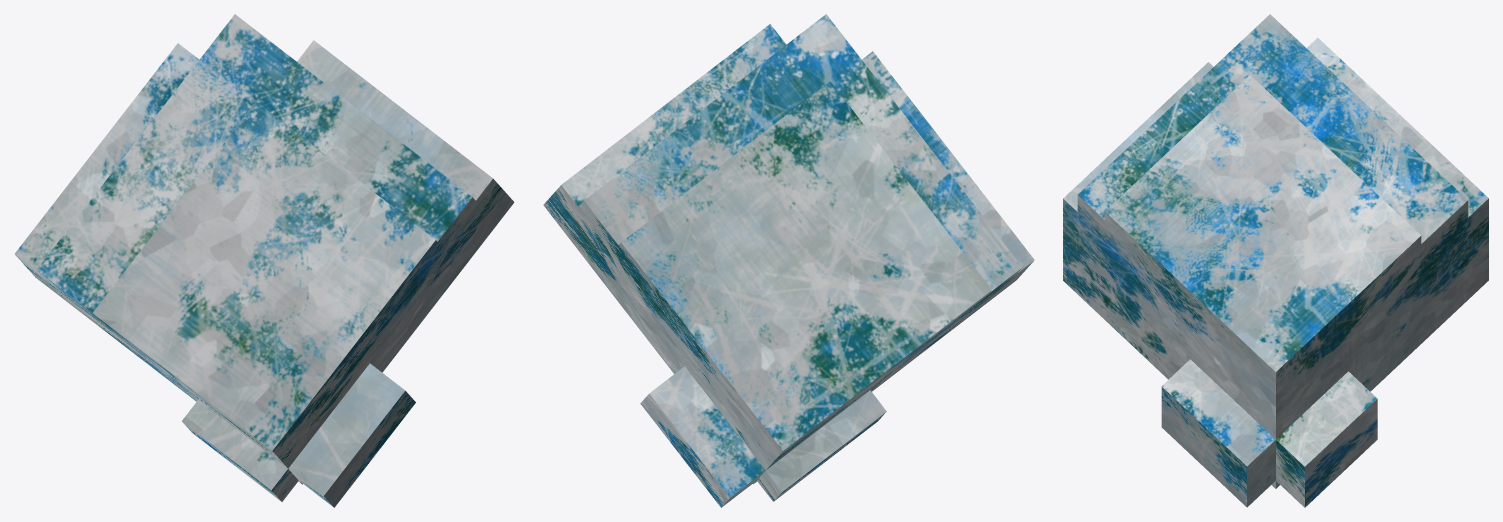
The model's file is Interaccionables.fbx.
3 renders of one model, left to right at view 1: azimuth 30°, elevation 25°; view 2: azimuth 150°, elevation 25°; view 3: azimuth 270°, elevation 25°, orthographic. The views are drawn at different scales.
Visible parts, largest first — view 1: Core; view 2: Core; view 3: Core.
Boxes of the visible parts, box(x1,y1,x2,y2) form: Core: box(15, 14, 514, 507); Core: box(543, 14, 1034, 507); Core: box(1063, 14, 1488, 507).
Bounding box in the file's own units: 73.17 × 73.54 × 62.26.
